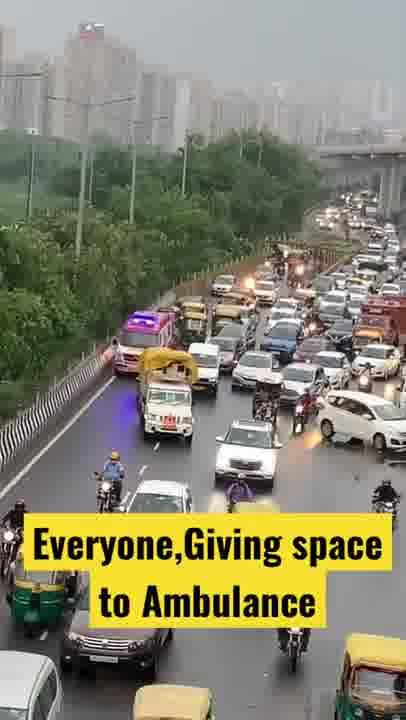AMBULANCE: (113, 305, 175, 373)
